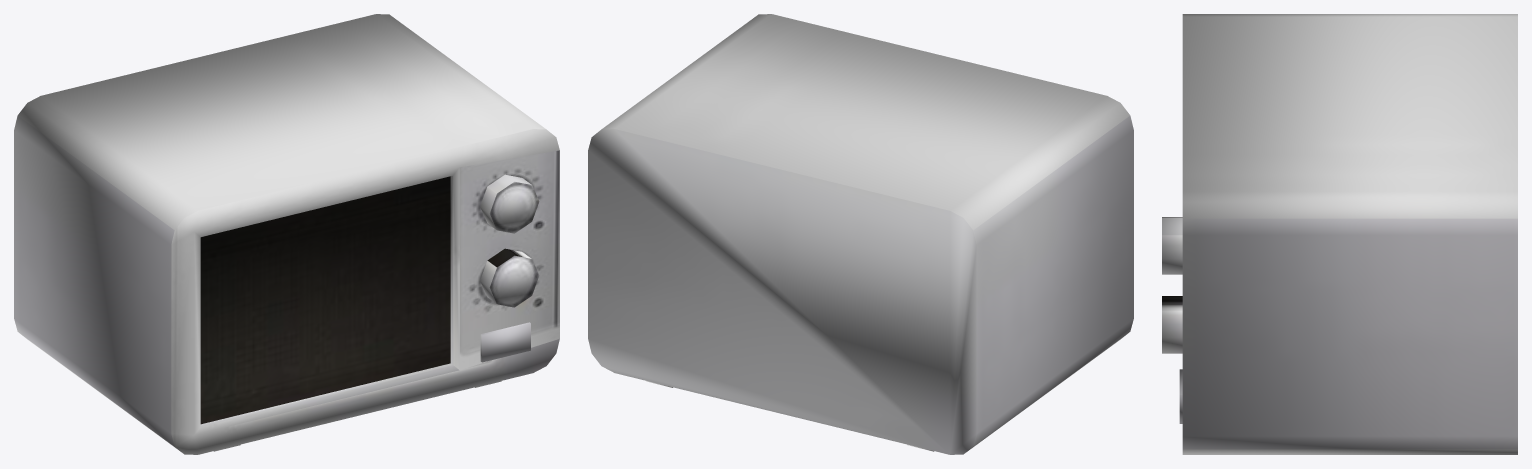
Rendered from microwave.fbx.
3 renders of one model, left to right at view 1: azimuth 30°, elevation 25°; view 2: azimuth 150°, elevation 25°; view 3: azimuth 270°, elevation 25°, orthographic. The views are drawn at different scales.
Visible parts, largest first — view 1: Cube.004; view 2: Cube.004; view 3: Cube.004.
Boxes of the visible parts, bbox=[...] form: Cube.004: bbox=[14, 14, 559, 454]; Cube.004: bbox=[588, 14, 1133, 454]; Cube.004: bbox=[1162, 14, 1517, 454].
Size of the model in its own units: 50 by 30.99 by 37.15.
